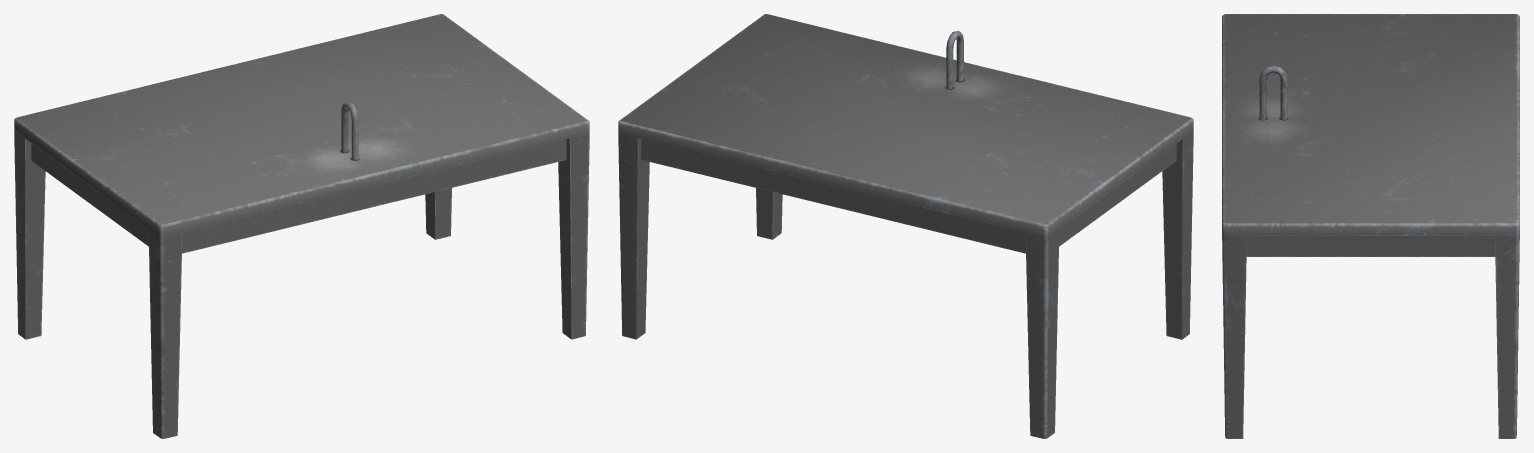
The model's file is TableSteel.fbx.
3 renders of one model, left to right at view 1: azimuth 30°, elevation 25°; view 2: azimuth 150°, elevation 25°; view 3: azimuth 270°, elevation 25°, orthographic.
Parts seen in each view (by area): view 1: TableSteel; view 2: TableSteel; view 3: TableSteel.
Boxes of the visible parts, <box> form: TableSteel: <box>14,14,589,438</box>; TableSteel: <box>618,14,1193,438</box>; TableSteel: <box>1222,14,1519,438</box>.
Bounding box in the file's own units: 168 × 99.57 × 100.
